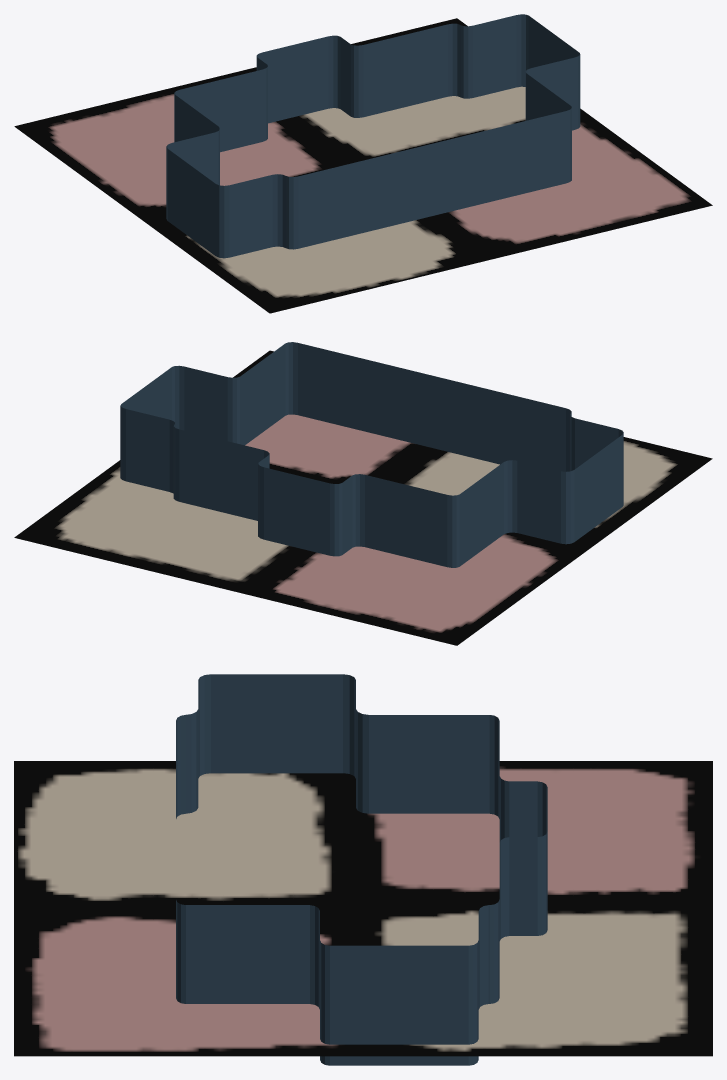
Rendered from OldStruct.fbx.
The picture shows the model from 3 angles, top to bottom: view 1: azimuth 30°, elevation 25°; view 2: azimuth 150°, elevation 25°; view 3: azimuth 270°, elevation 25°; orthographic projection. The views are drawn at different scales.
Visible parts, largest first — view 1: building_001, Plane; view 2: building_001, Plane; view 3: Plane, building_001.
Boxes of the visible parts, x1=… form: building_001: x1=166, y1=14, x2=580, y2=258; Plane: x1=14, y1=18, x2=712, y2=313; building_001: x1=120, y1=342, x2=623, y2=567; Plane: x1=14, y1=350, x2=712, y2=645; Plane: x1=14, y1=761, x2=712, y2=1056; building_001: x1=176, y1=674, x2=547, y2=1065.
Bounding box in the file's own units: 10000 × 1894 × 10000.
